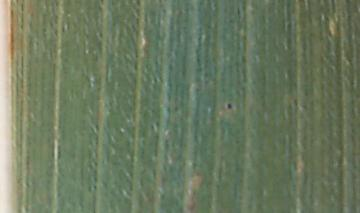tarspot: (226, 101, 233, 111), (134, 1, 142, 7), (98, 1, 107, 6)
